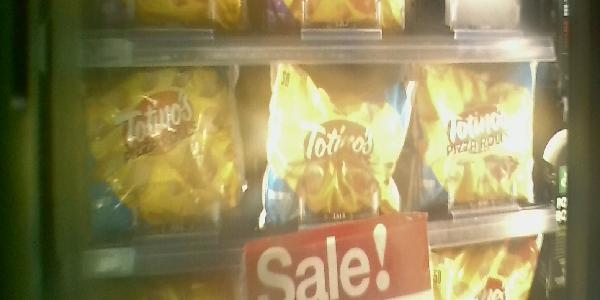icecream: (65, 65, 255, 237), (261, 56, 409, 233), (410, 63, 559, 213)
